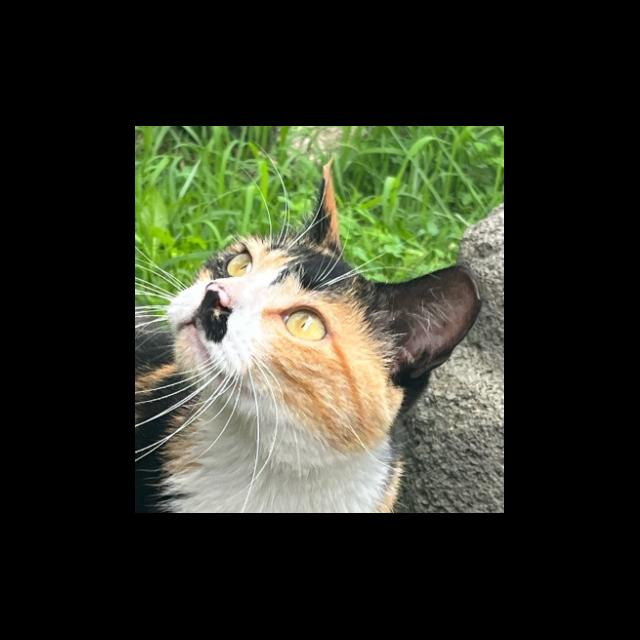animals: (160, 150, 484, 468)
